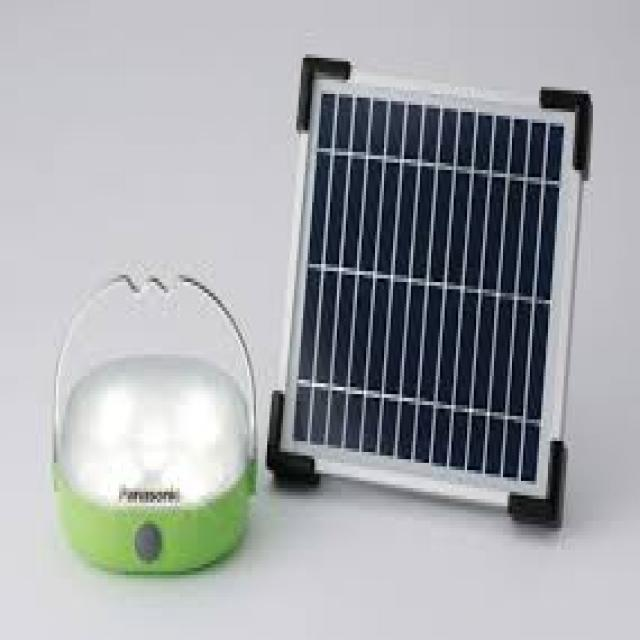no faulty: (289, 64, 556, 500)
